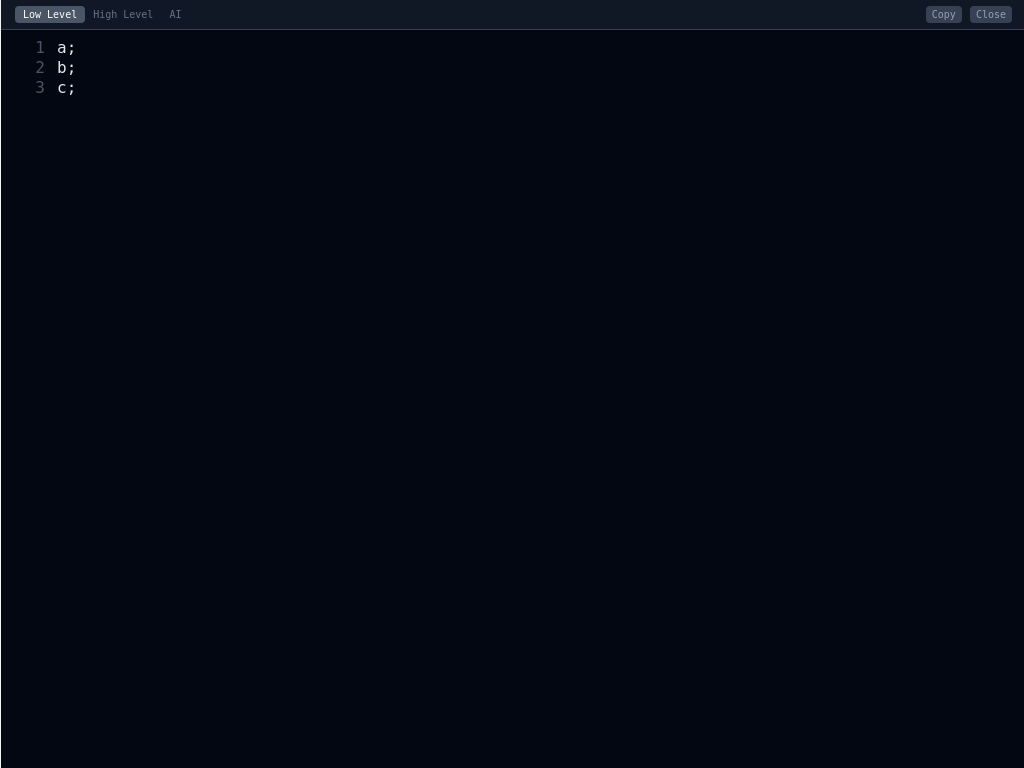
Test: DecompileView context menu › copies the address as UPPERCASE hex with no 0x
Right-click the button "2 b;" at (40, 68), box [13,58,1012,78]
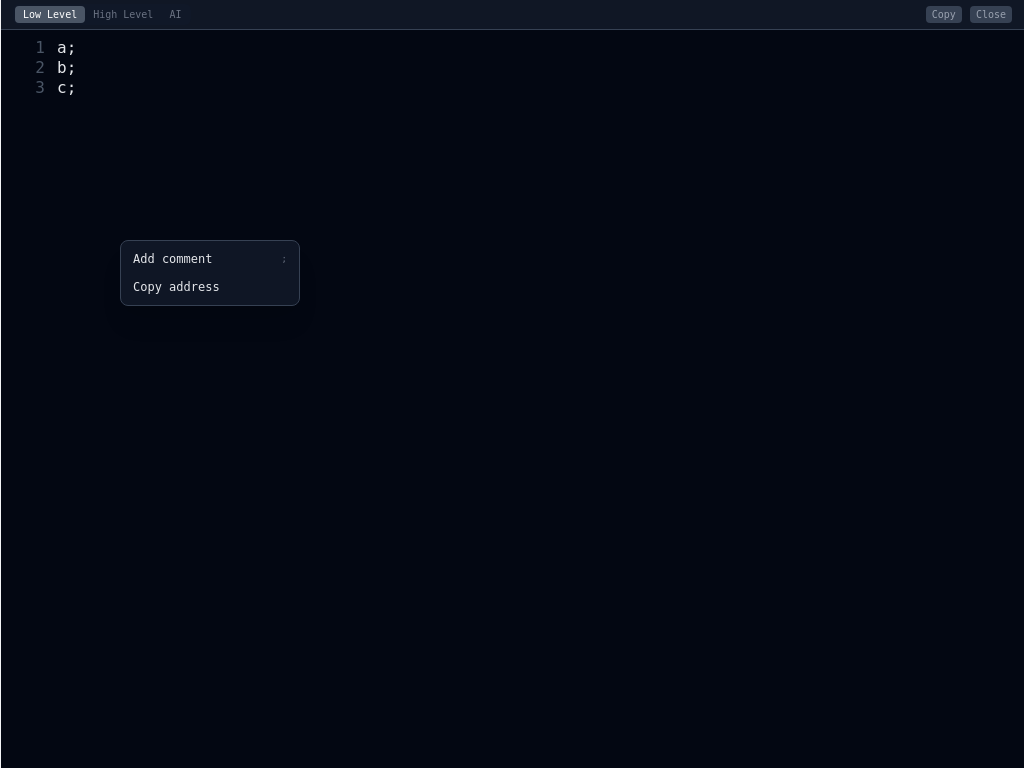
Click the button "Copy address" at (210, 287), box [121,273,299,301]
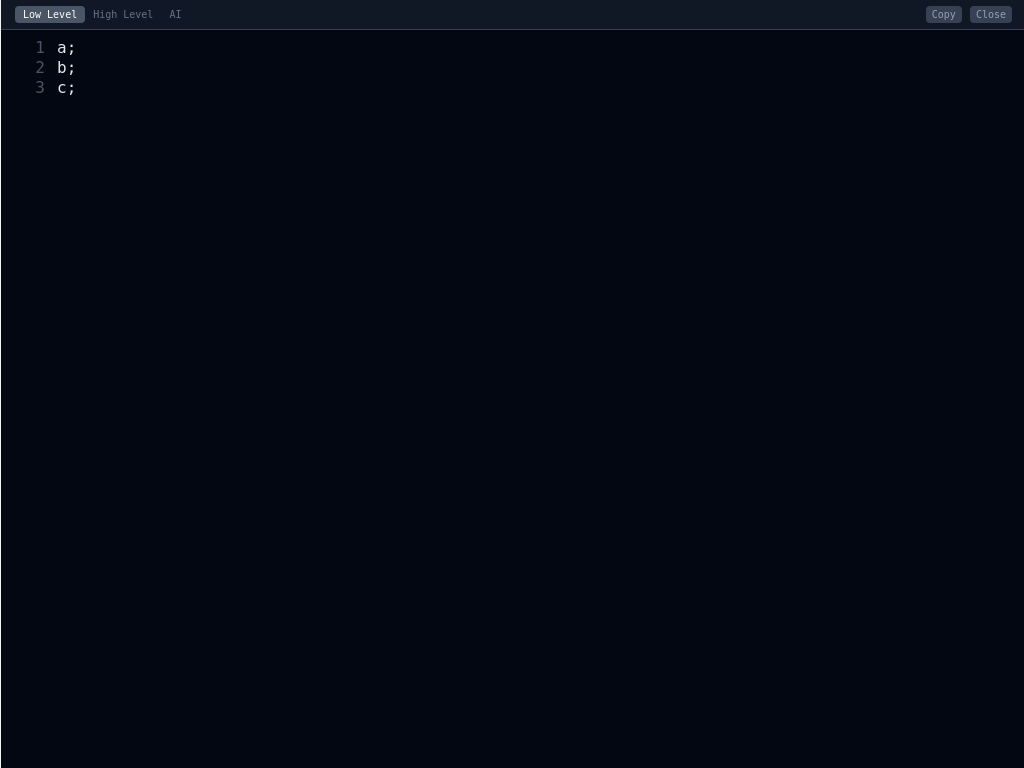
Result: the button "Add comment" is gone
